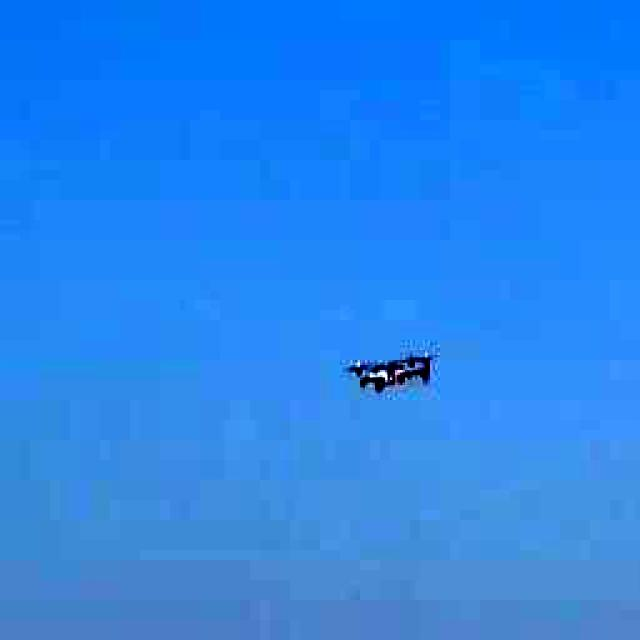bird: (340, 331, 448, 401)
